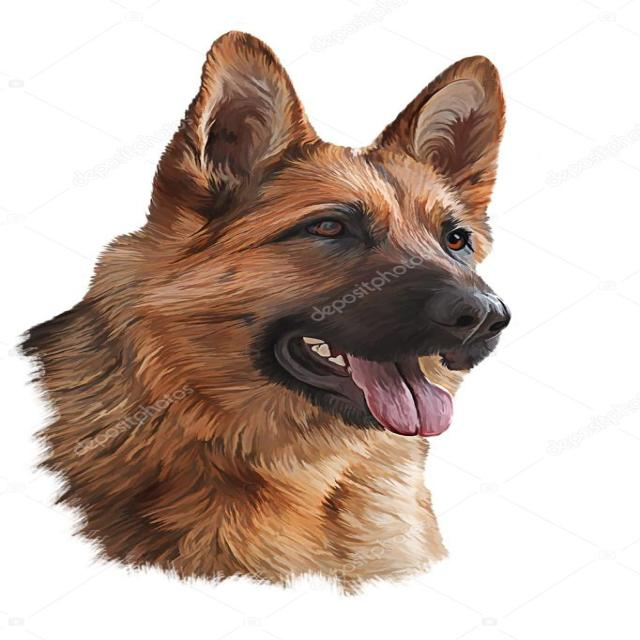dog: (55, 40, 572, 487)
